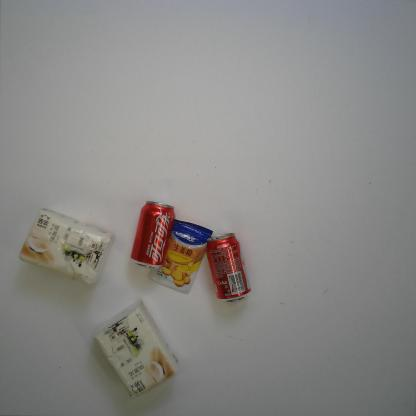Drink: (204, 232, 253, 304), (129, 199, 176, 271)
Seasoner: (147, 218, 214, 294)
Tissue: (93, 299, 180, 398), (18, 208, 115, 288)
